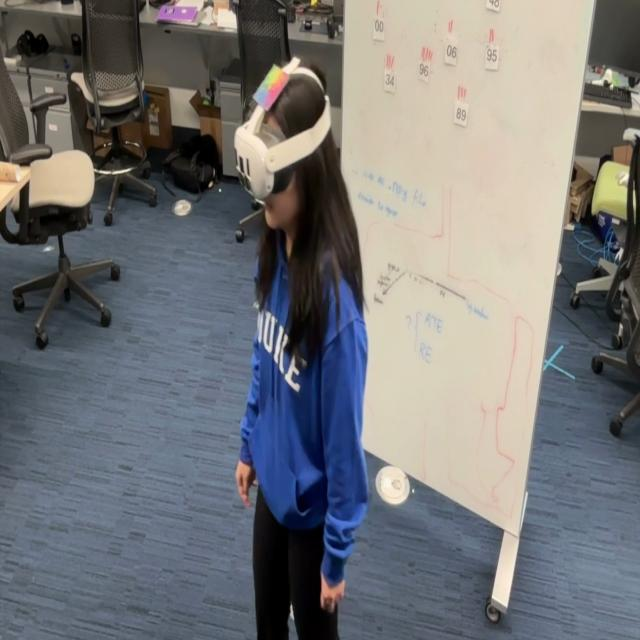Headset: (233, 64, 332, 201)
Marker: (254, 66, 288, 116)
